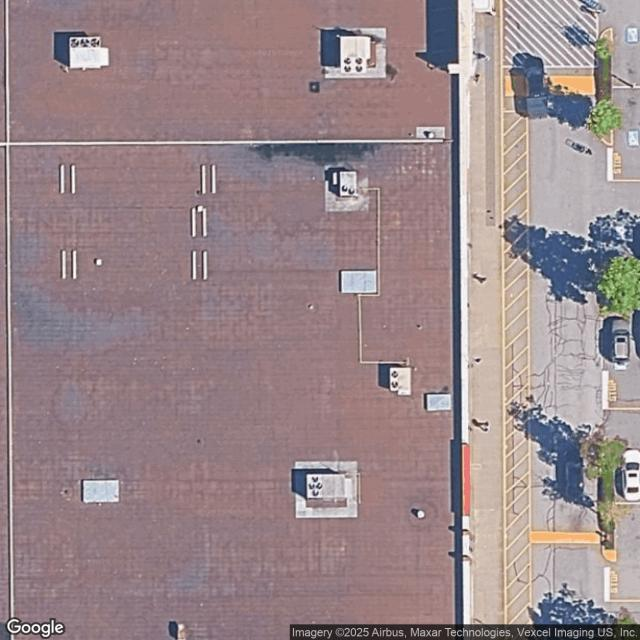car: (607, 316, 633, 364), (621, 450, 640, 502)
lot_boundary: (600, 0, 640, 602)
objects: (598, 439, 616, 560), (595, 29, 611, 147), (599, 316, 607, 368)
stall: (611, 28, 639, 89), (612, 87, 639, 148), (606, 315, 632, 367), (618, 446, 640, 504)
